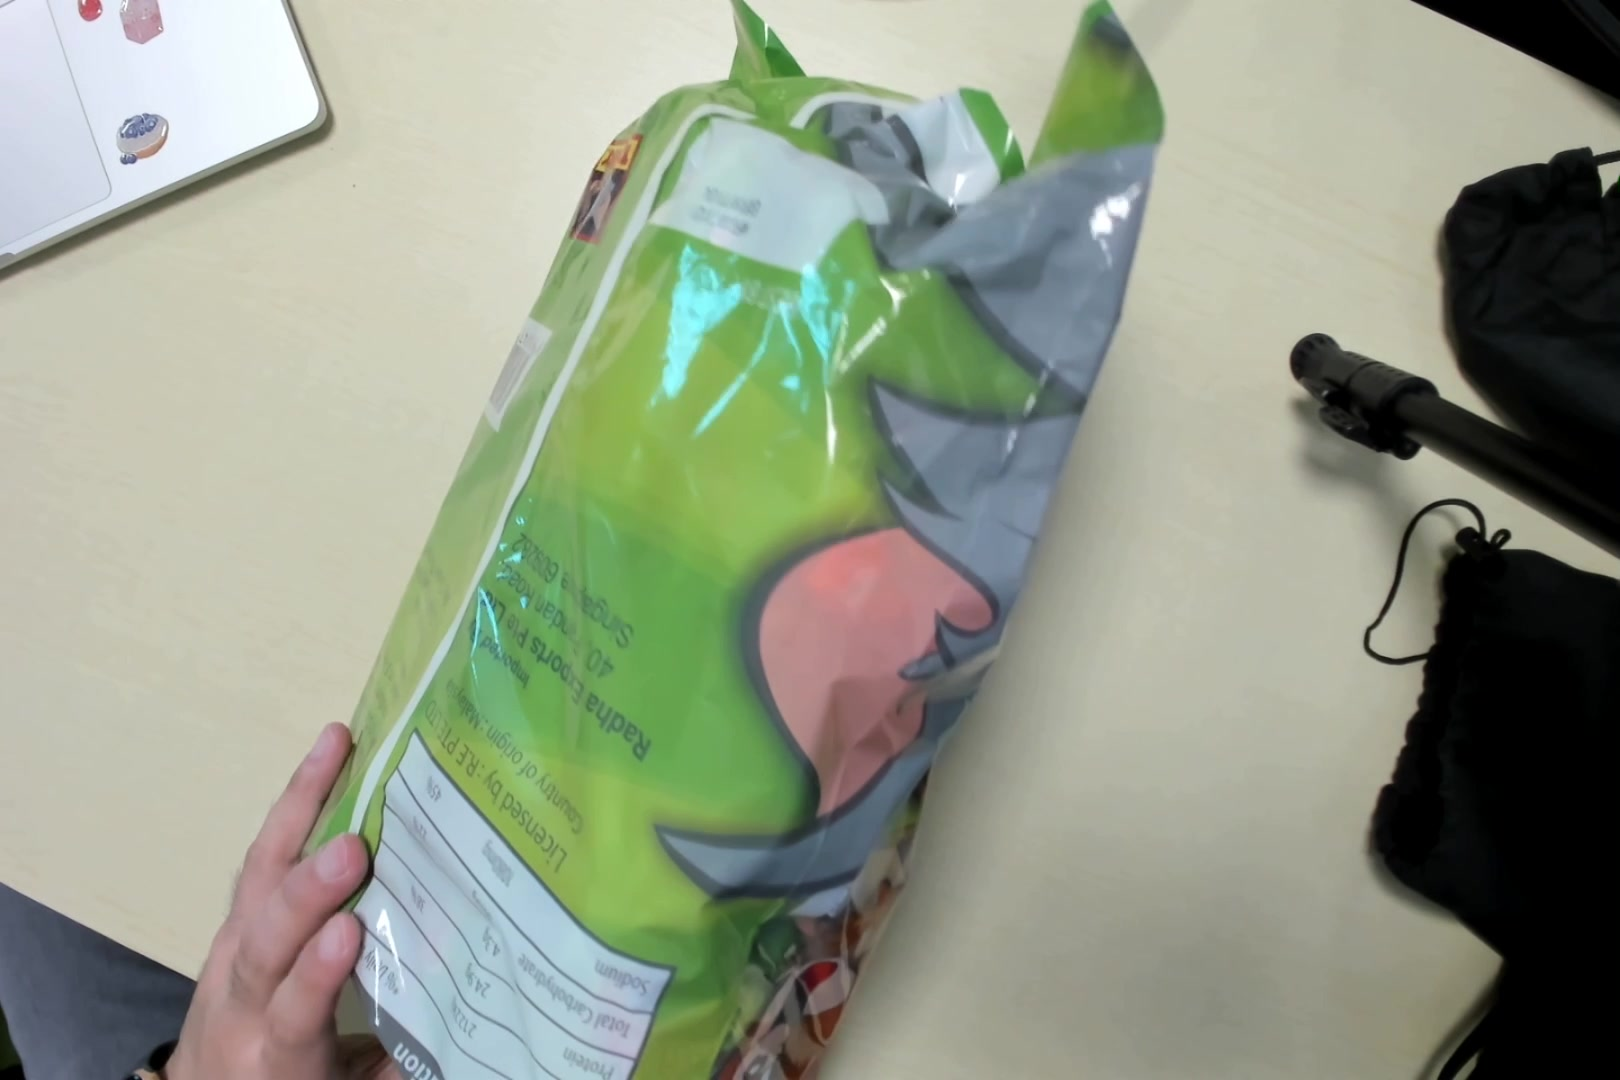PotatoChipsKeropok_200-299g_Halal_NonHealthy: (322, 58, 1161, 1080)
